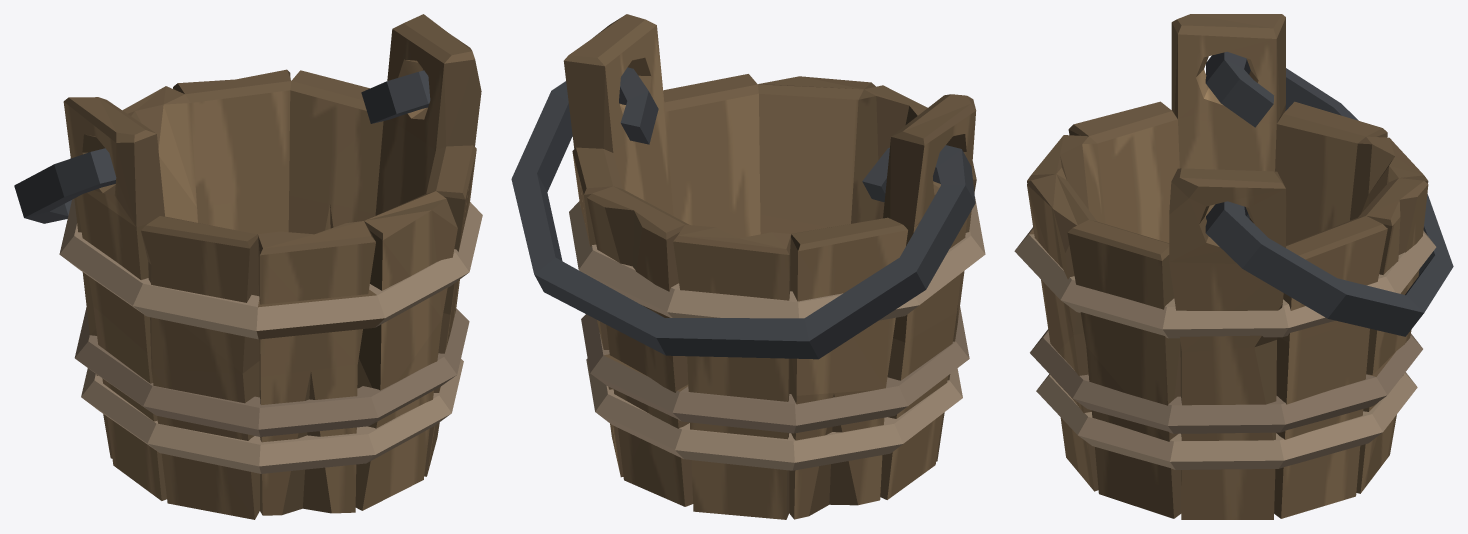
File: SM_Prop_Bucket_01.fbx
3 renders of one model, left to right at view 1: azimuth 30°, elevation 25°; view 2: azimuth 150°, elevation 25°; view 3: azimuth 270°, elevation 25°, orthographic. The views are drawn at different scales.
Visible parts, largest first — view 1: SM_Prop_Bucket_01, SM_Prop_Bucket_01_Handle; view 2: SM_Prop_Bucket_01, SM_Prop_Bucket_01_Handle; view 3: SM_Prop_Bucket_01, SM_Prop_Bucket_01_Handle.
Part boxes in pixels (x1,y1,x2,y2): SM_Prop_Bucket_01: (59,14,482,519); SM_Prop_Bucket_01_Handle: (14,70,430,223); SM_Prop_Bucket_01: (563,14,985,519); SM_Prop_Bucket_01_Handle: (511,67,975,359); SM_Prop_Bucket_01: (1014,14,1436,519); SM_Prop_Bucket_01_Handle: (1205,51,1453,336).
Bounding box in the file's own units: 58.58 × 51.03 × 56.58.
